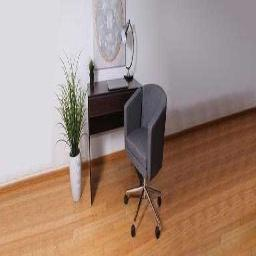Chair: (121, 83, 170, 238)
